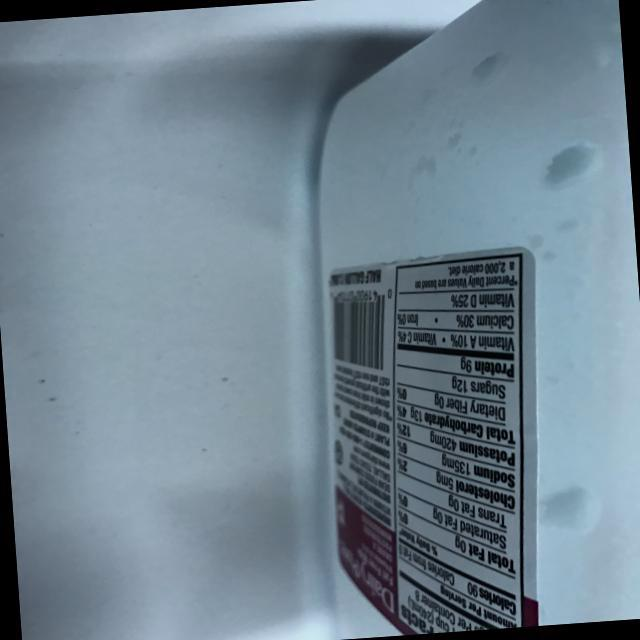plastic: (268, 0, 640, 640)
